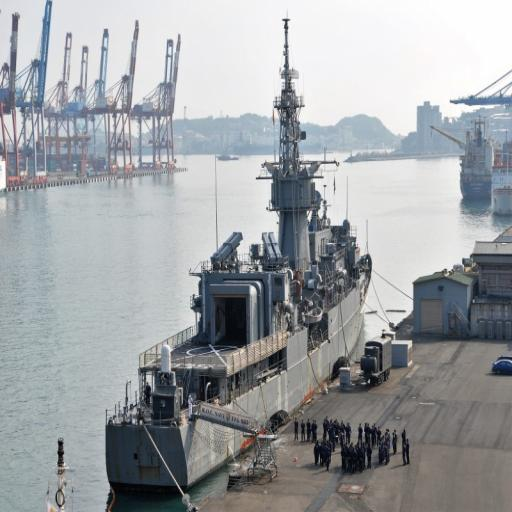Fragata: (102, 2, 380, 503)
